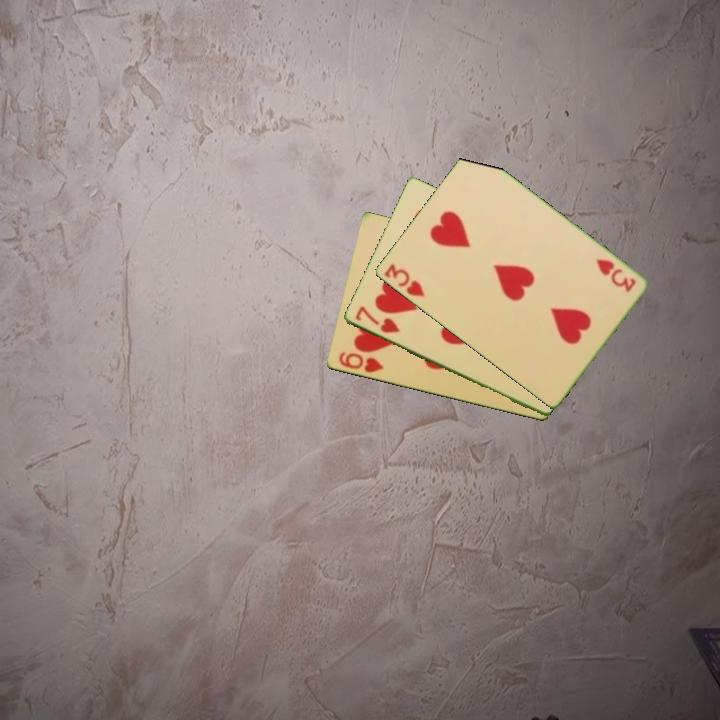3h: (380, 260, 427, 300), (592, 255, 639, 295)
6h: (335, 348, 386, 376)
7h: (351, 302, 403, 336)
